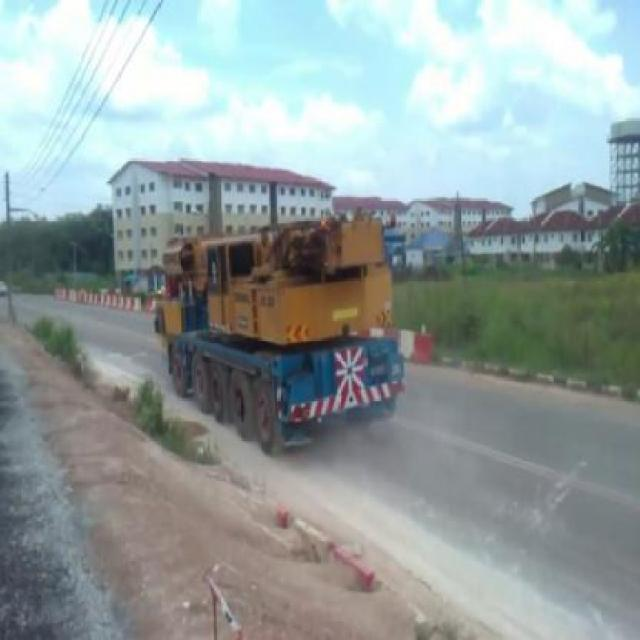Mobile Crane: (152, 197, 405, 412)
